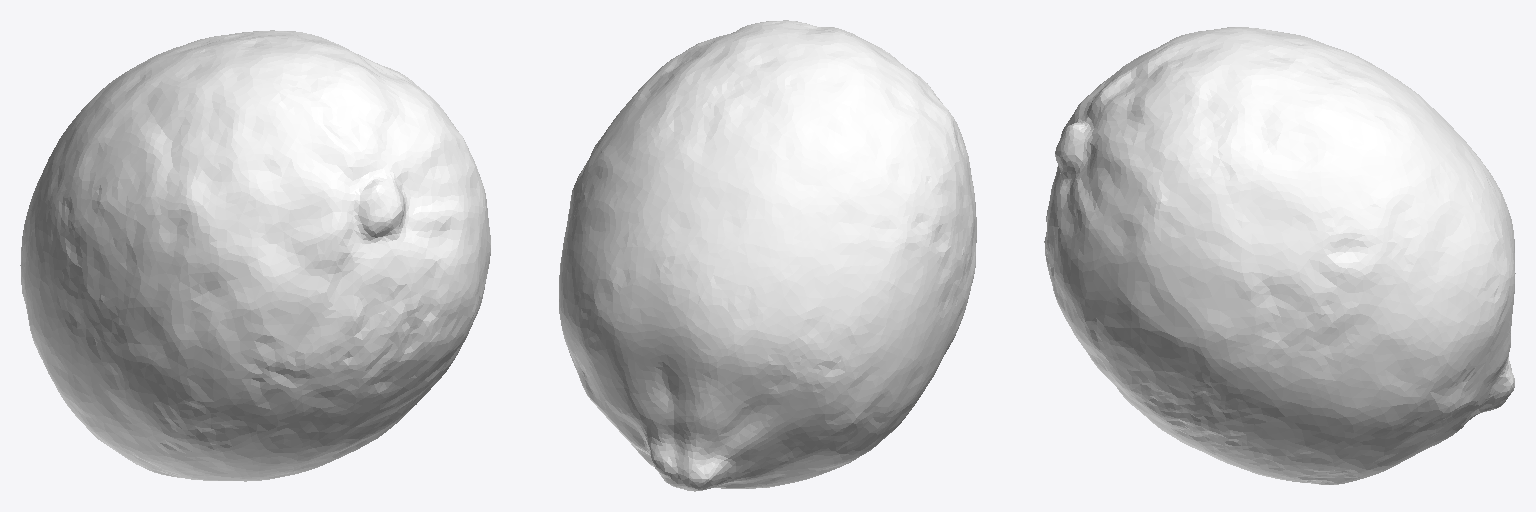
robot.urdf — lemon:
<robot name="lemon">
    <link name="base_link">
        <visual>
            <origin xyz="-0.0 -0.0 -0.0" rpy="0.0 0.0 0.0" />
            <geometry>
                <mesh filename="lemon/textured.obj" scale="1 1 1" />
            </geometry>
            <material name="texture">
                <color rgba="1.0 1.0 1.0 1.0" />
            </material>
        </visual>
        <collision>
            <origin xyz="-0.0 -0.0 -0.0" rpy="0.0 0.0 0.0" />
            <geometry>
                <mesh filename="lemon/textured_coacd_0.stl" scale="1 1 1" />
            </geometry>
        </collision>
        <collision>
            <origin xyz="-0.0 -0.0 -0.0" rpy="0.0 0.0 0.0" />
            <geometry>
                <mesh filename="lemon/textured_coacd_1.stl" scale="1 1 1" />
            </geometry>
        </collision>
        <inertial>
            <mass value="0.029" />
            <inertia ixx="1e-3" ixy="0.0" ixz="0.0" iyy="1e-3" iyz="0.0" izz="1e-3" />
        </inertial>
    </link>
</robot>

--- What the picture shows (computed from the rendered views, not written in the file) ---
3 views of the same robot in one strip: view 1: azimuth 30°, elevation 25°; view 2: azimuth 150°, elevation 25°; view 3: azimuth 270°, elevation 25° (orthographic).
Model lemon with 1 links and 0 joints (none), rooted at base_link, posed all joints at 0.
Visible links, largest first — view 1: base_link; view 2: base_link; view 3: base_link.
Boxes of the visible links, x1,y1,x2,y2 form: base_link: (20, 30, 490, 481); base_link: (559, 20, 976, 491); base_link: (1044, 27, 1515, 484).
Bounding box of the posed robot: 0.0529 × 0.0598 × 0.0585 m (x, y, z).
1 mesh visuals loaded from 1 distinct referenced files (1 OBJ).